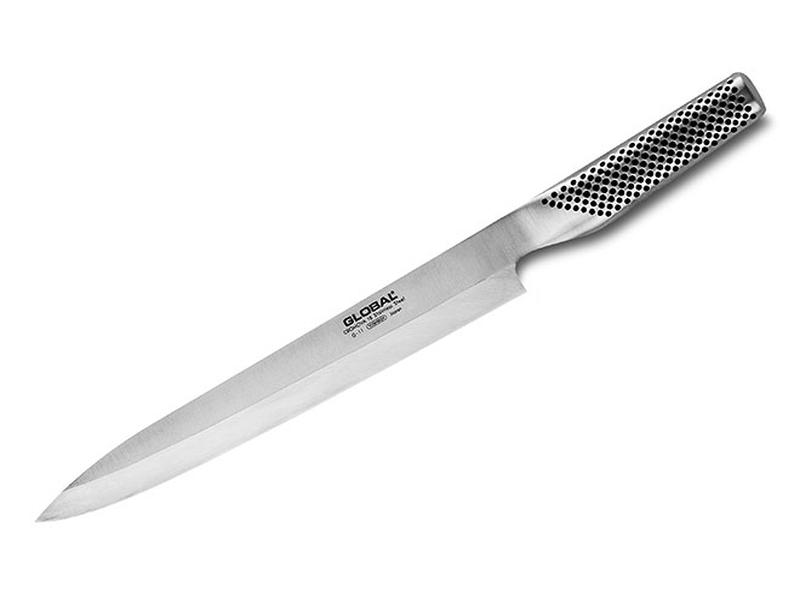KNIFE: (28, 65, 773, 531)
